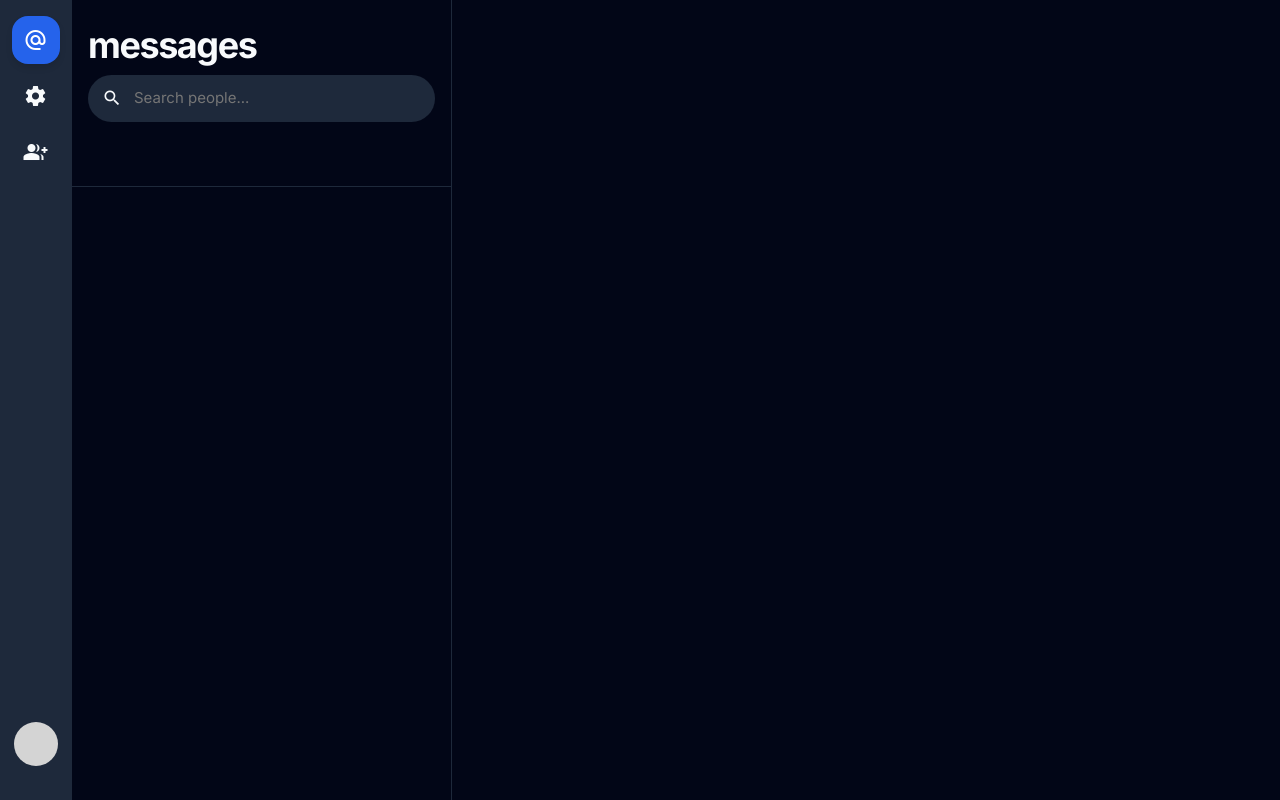
it: Conversation › Groups › should be able to find other people to add to group
Click the button named "Create Group" at (36, 152), box [12,128,60,176]
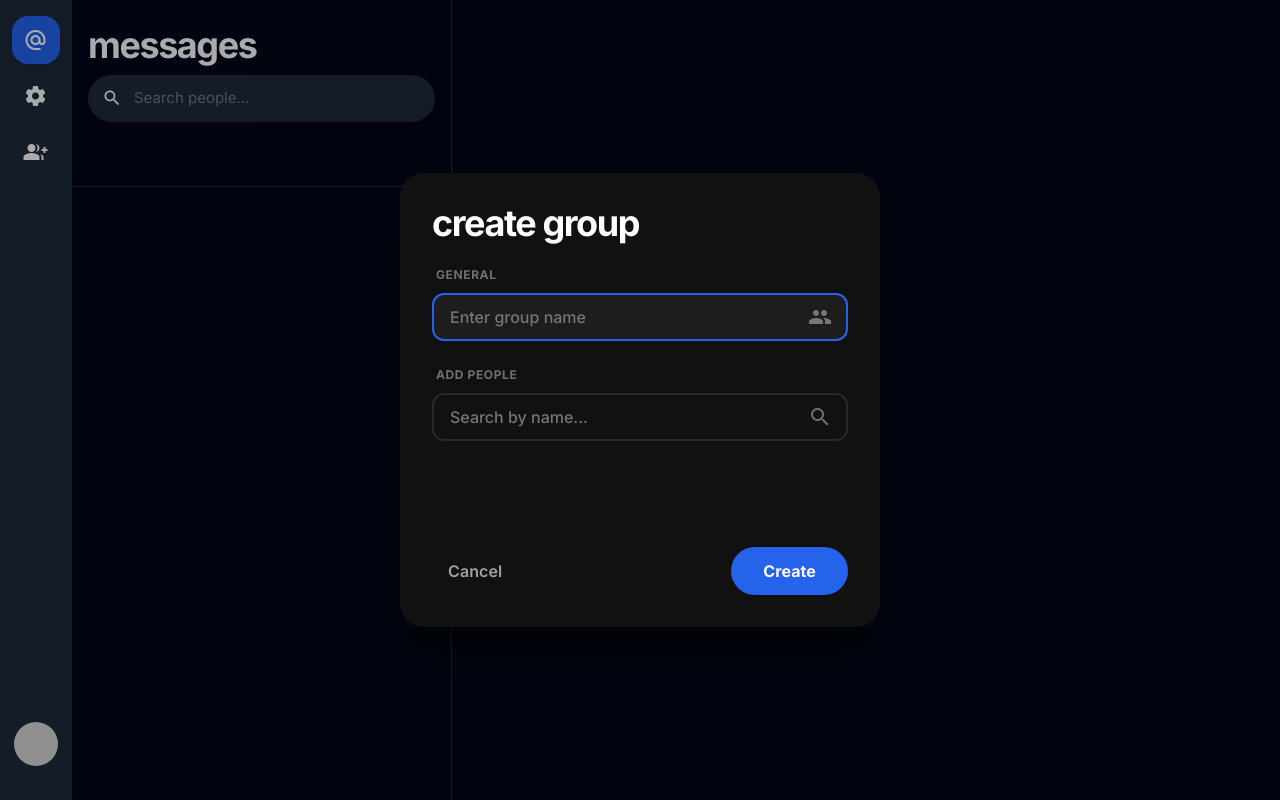
Now the heading "create group" is shown, box [432,201,639,245]
Now the field with placeholder "Search by name..." is shown
Type "Meo meo" into the field with placeholder "Search by name..." at (640, 417), box [432,393,848,441]
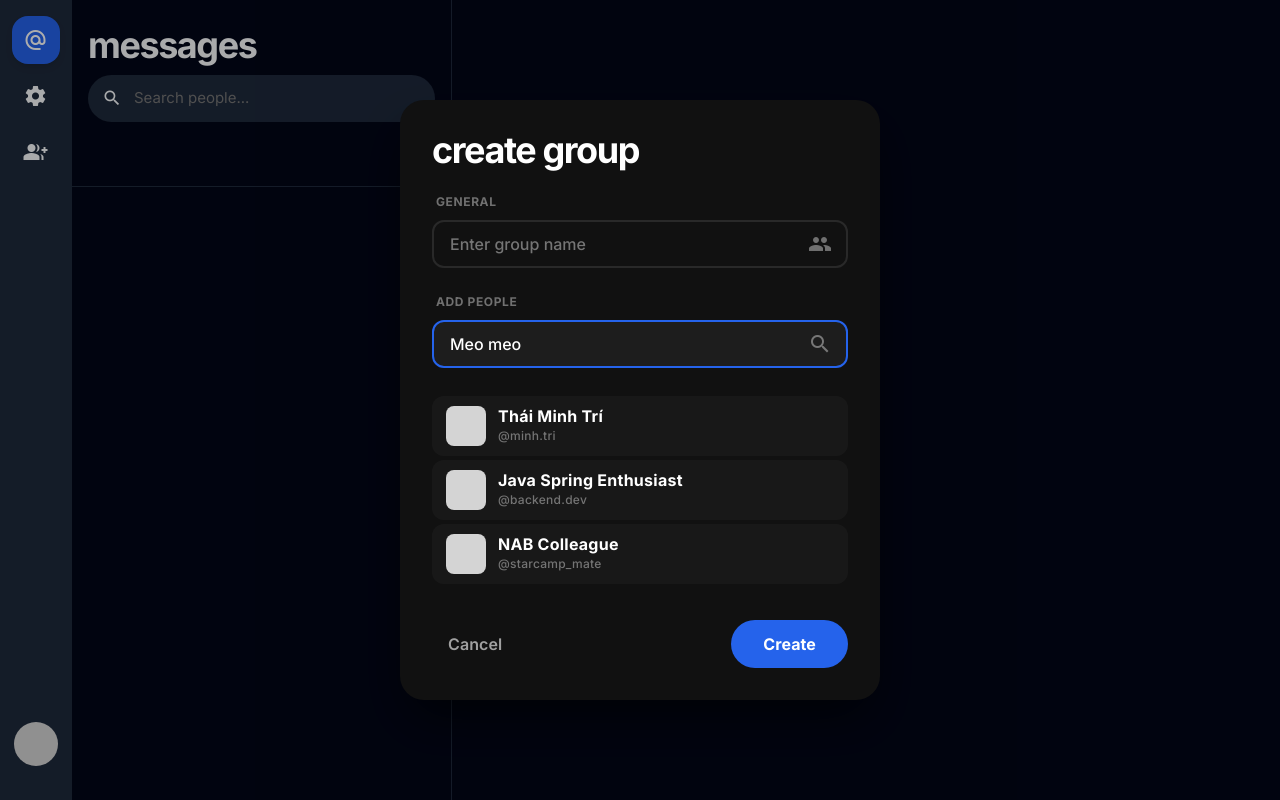
Now the text "Thái Minh Trí" is shown, box [498,406,603,426]
Now the text "NAB Colleague" is shown, box [498,534,619,554]
